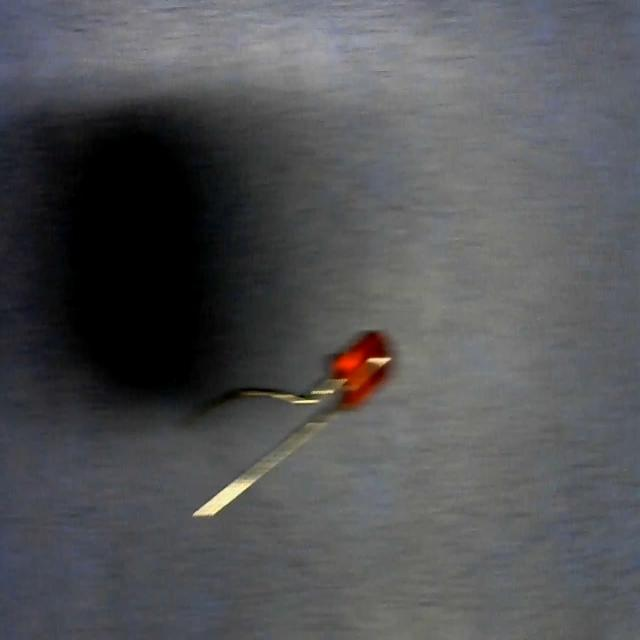LED: (196, 333, 392, 504)
